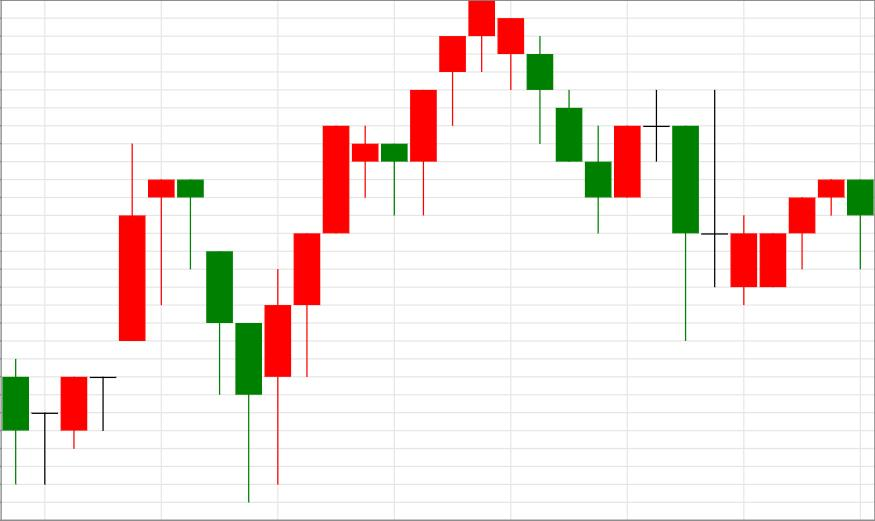three_white_soldiers_rise: (148, 126, 350, 502)
